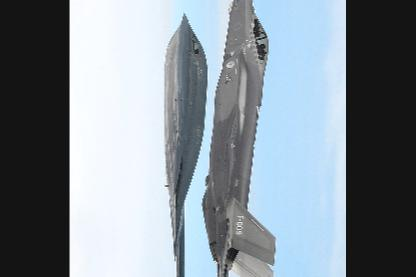B1: (164, 10, 209, 276)
F22: (202, 0, 278, 276)
